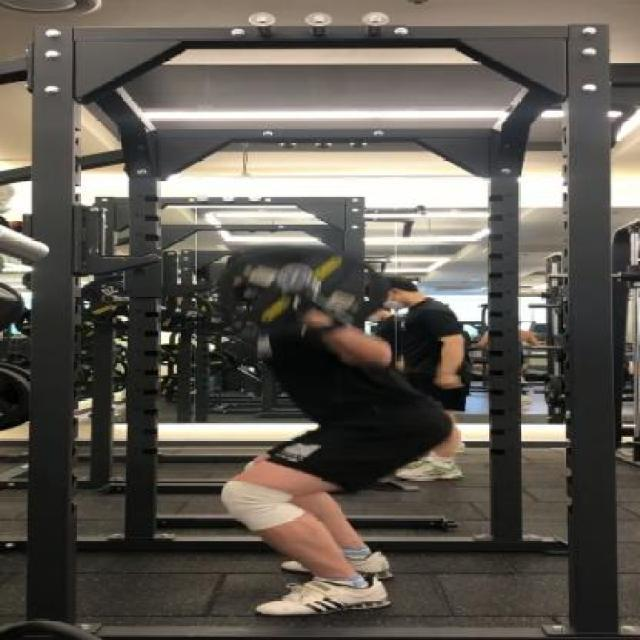barbell: (183, 235, 394, 346)
